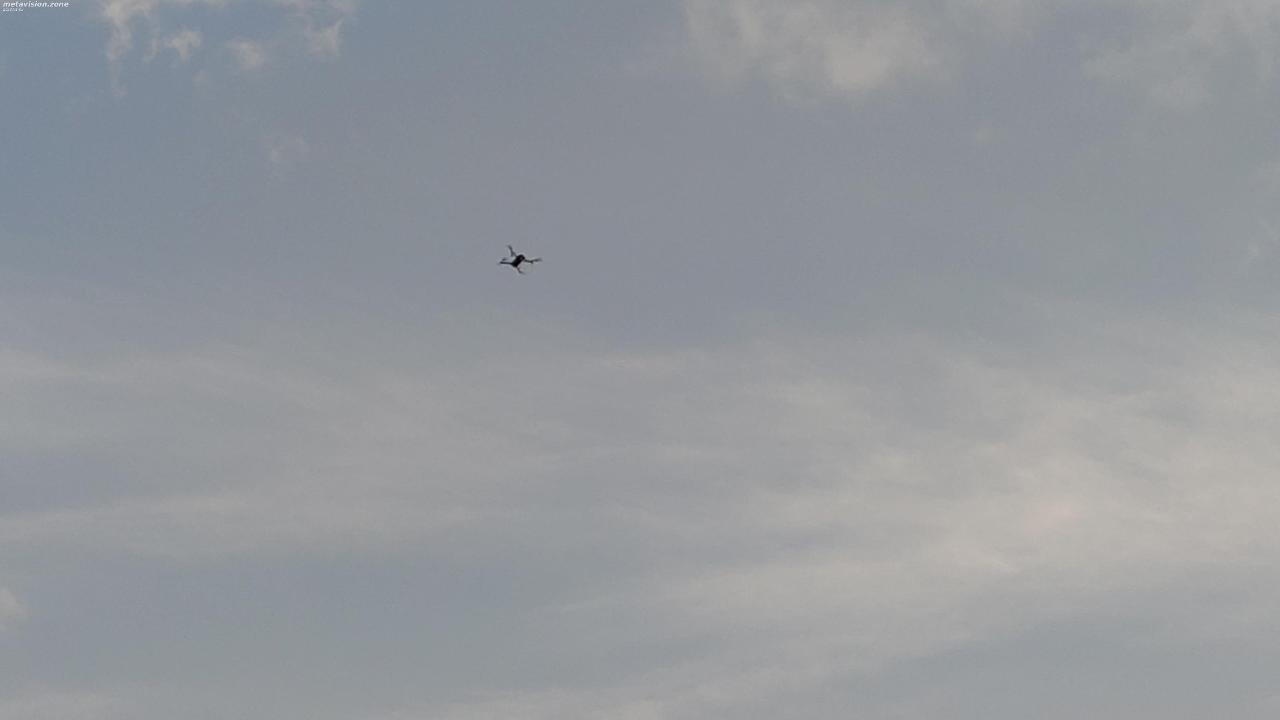drone: (497, 237, 544, 280)
